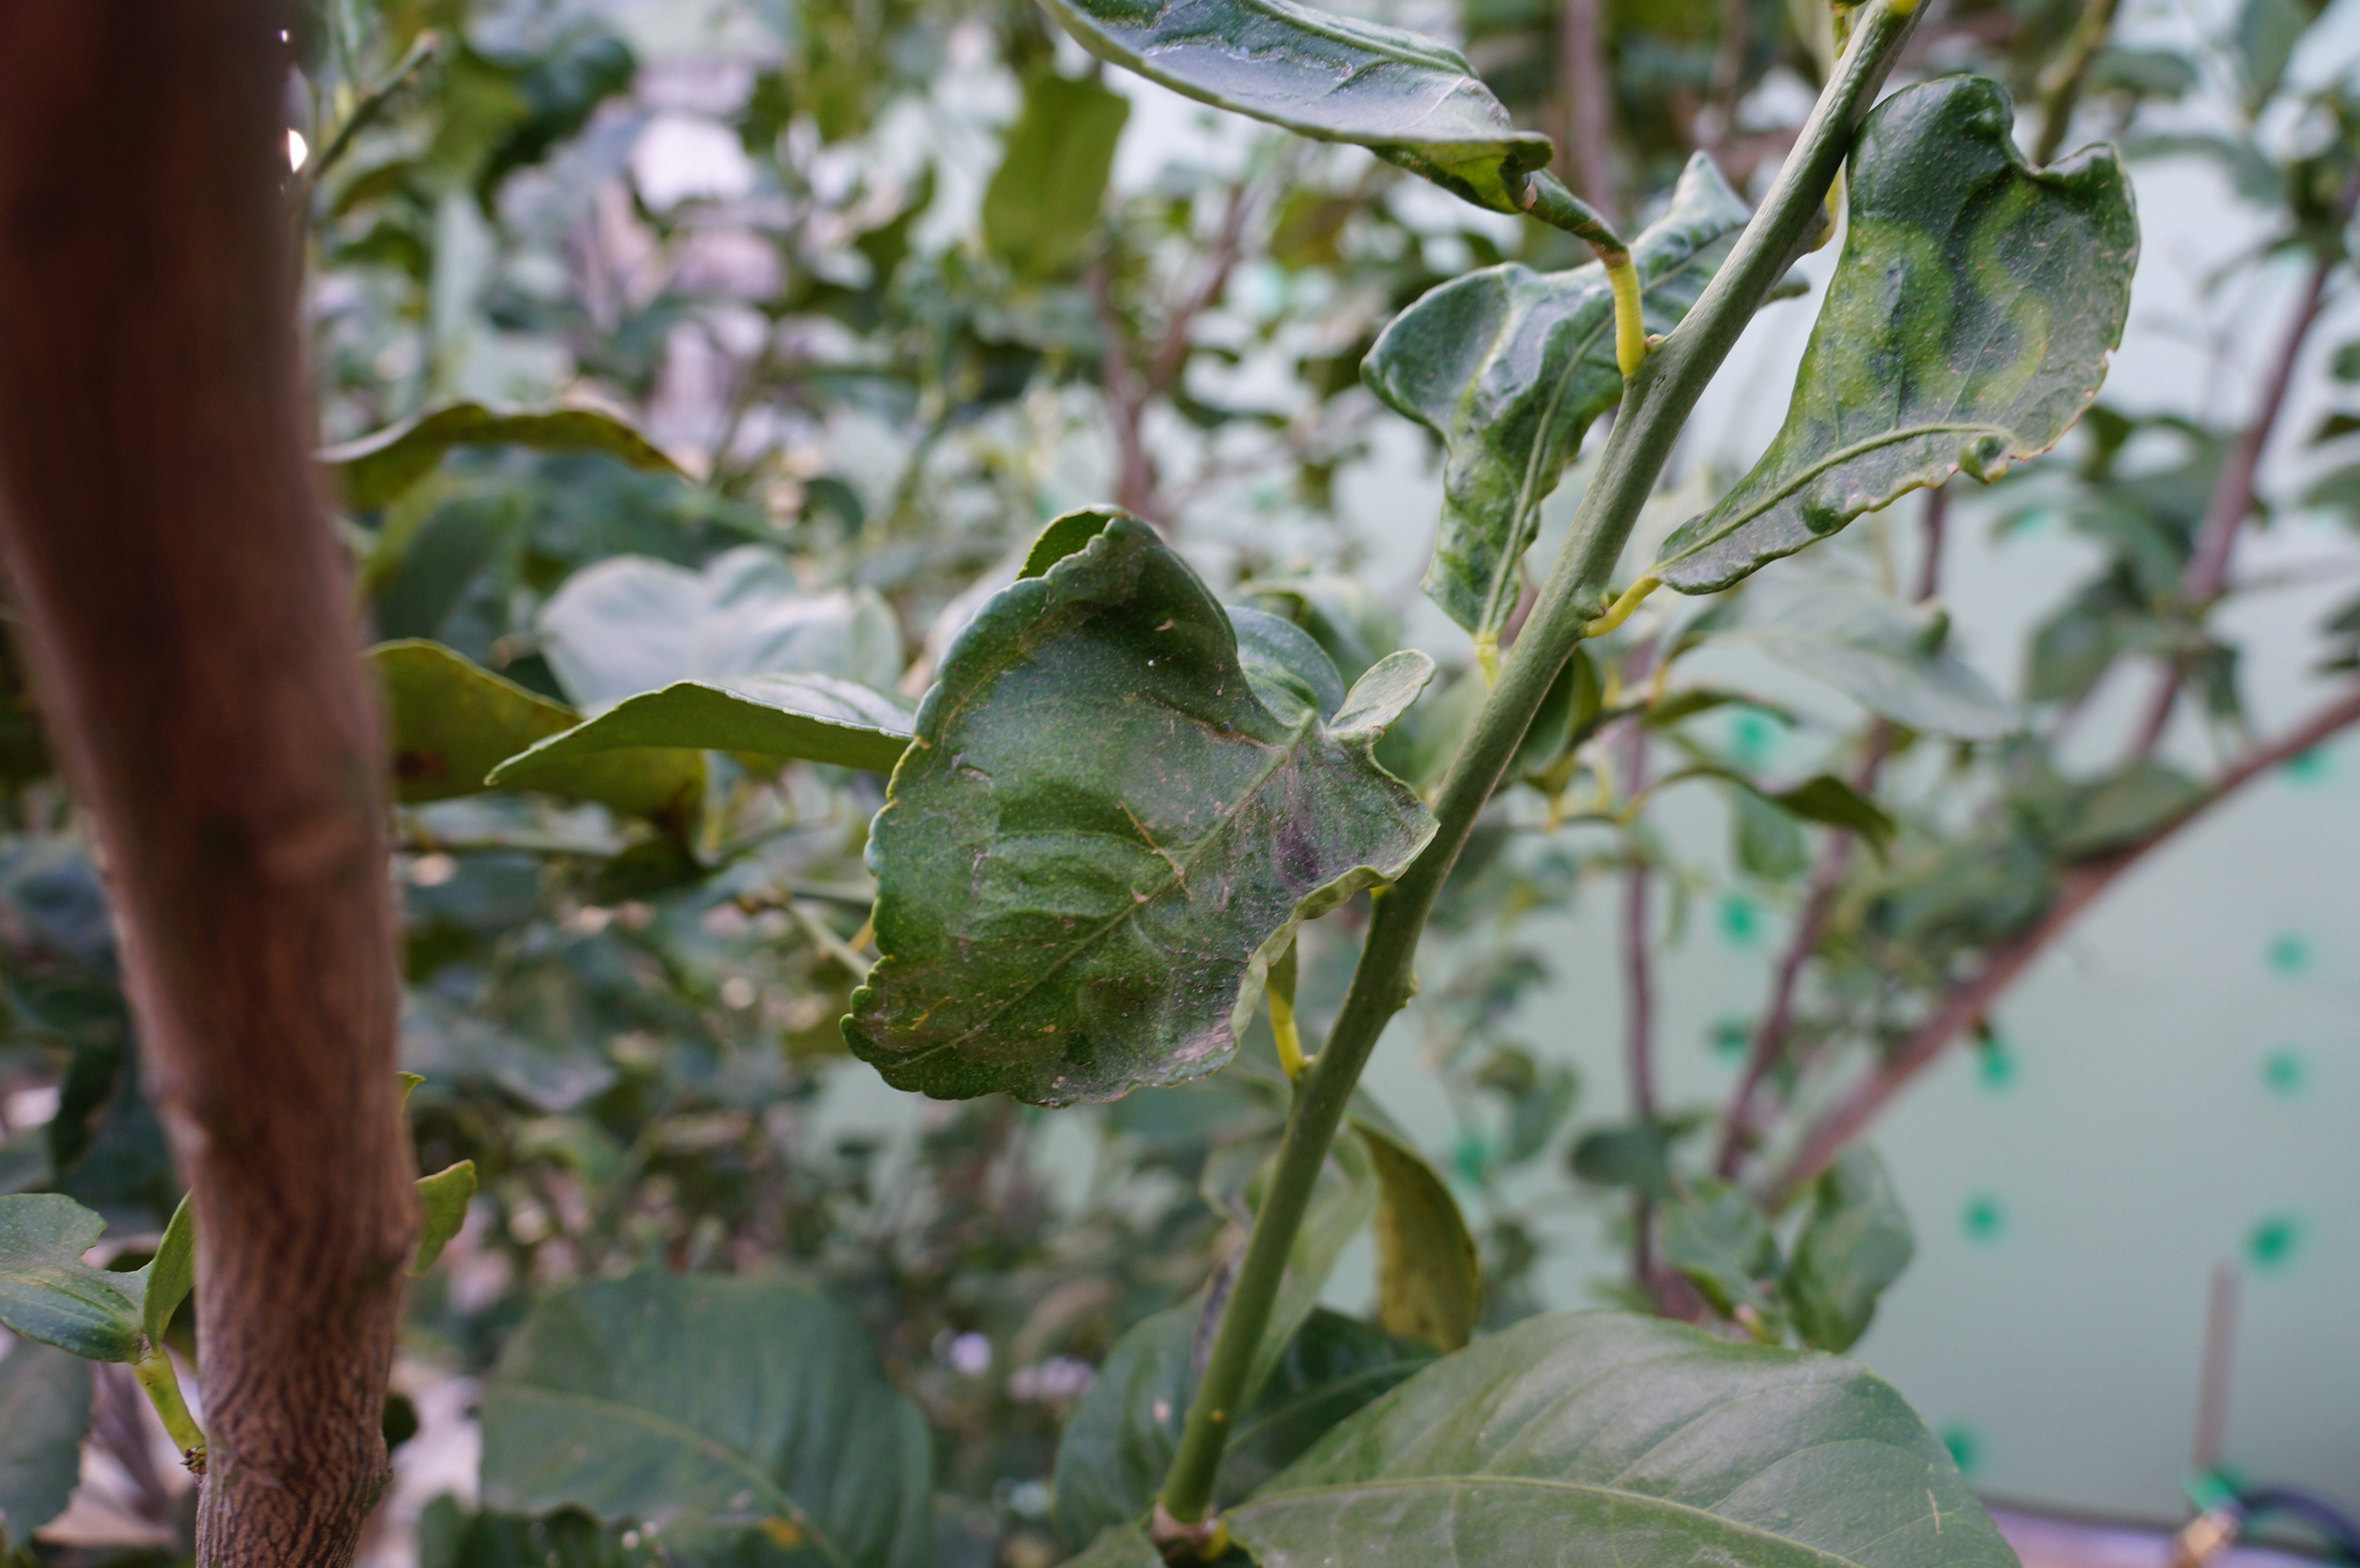curly: (812, 493, 1456, 1127), (1615, 44, 2152, 632)
